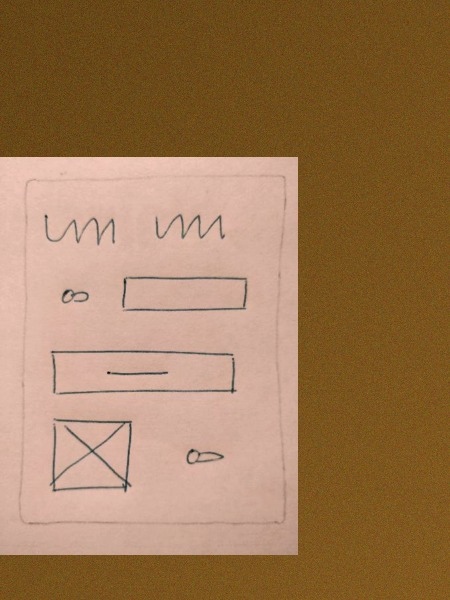button: (43, 343, 244, 404)
image: (45, 412, 137, 498)
switch: (51, 278, 95, 313), (178, 442, 233, 468)
text: (40, 208, 122, 253), (146, 207, 232, 249)
text_input: (112, 270, 252, 320)
